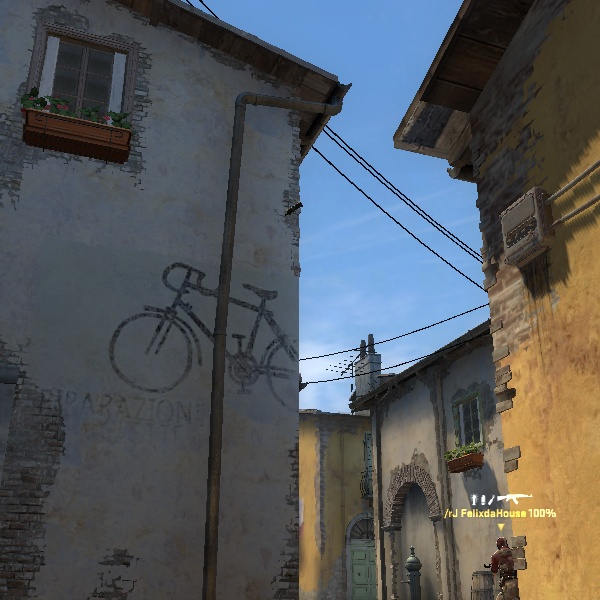t_body: (478, 534, 524, 599)
